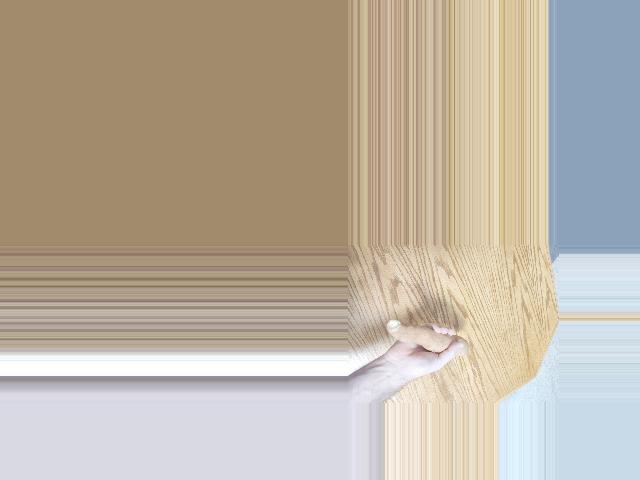sweet_potato: (381, 320, 472, 354)
